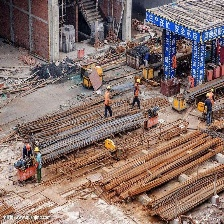person: (131, 77, 142, 112), (104, 83, 113, 121)
